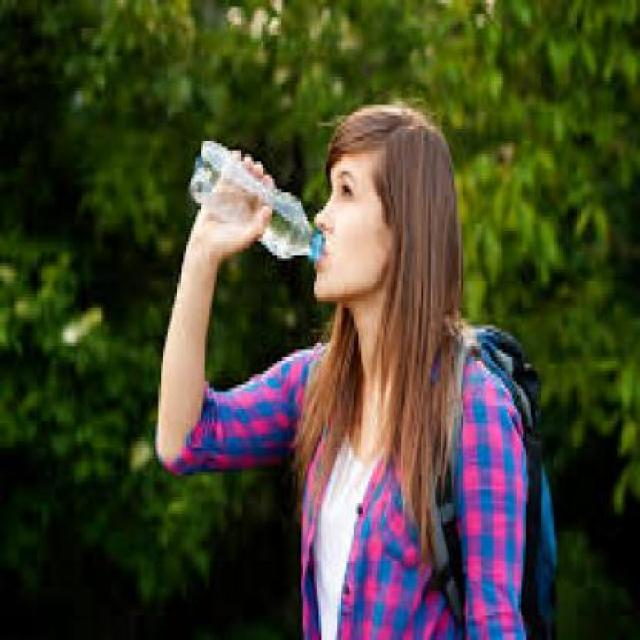Drinking: (191, 117, 340, 279)
